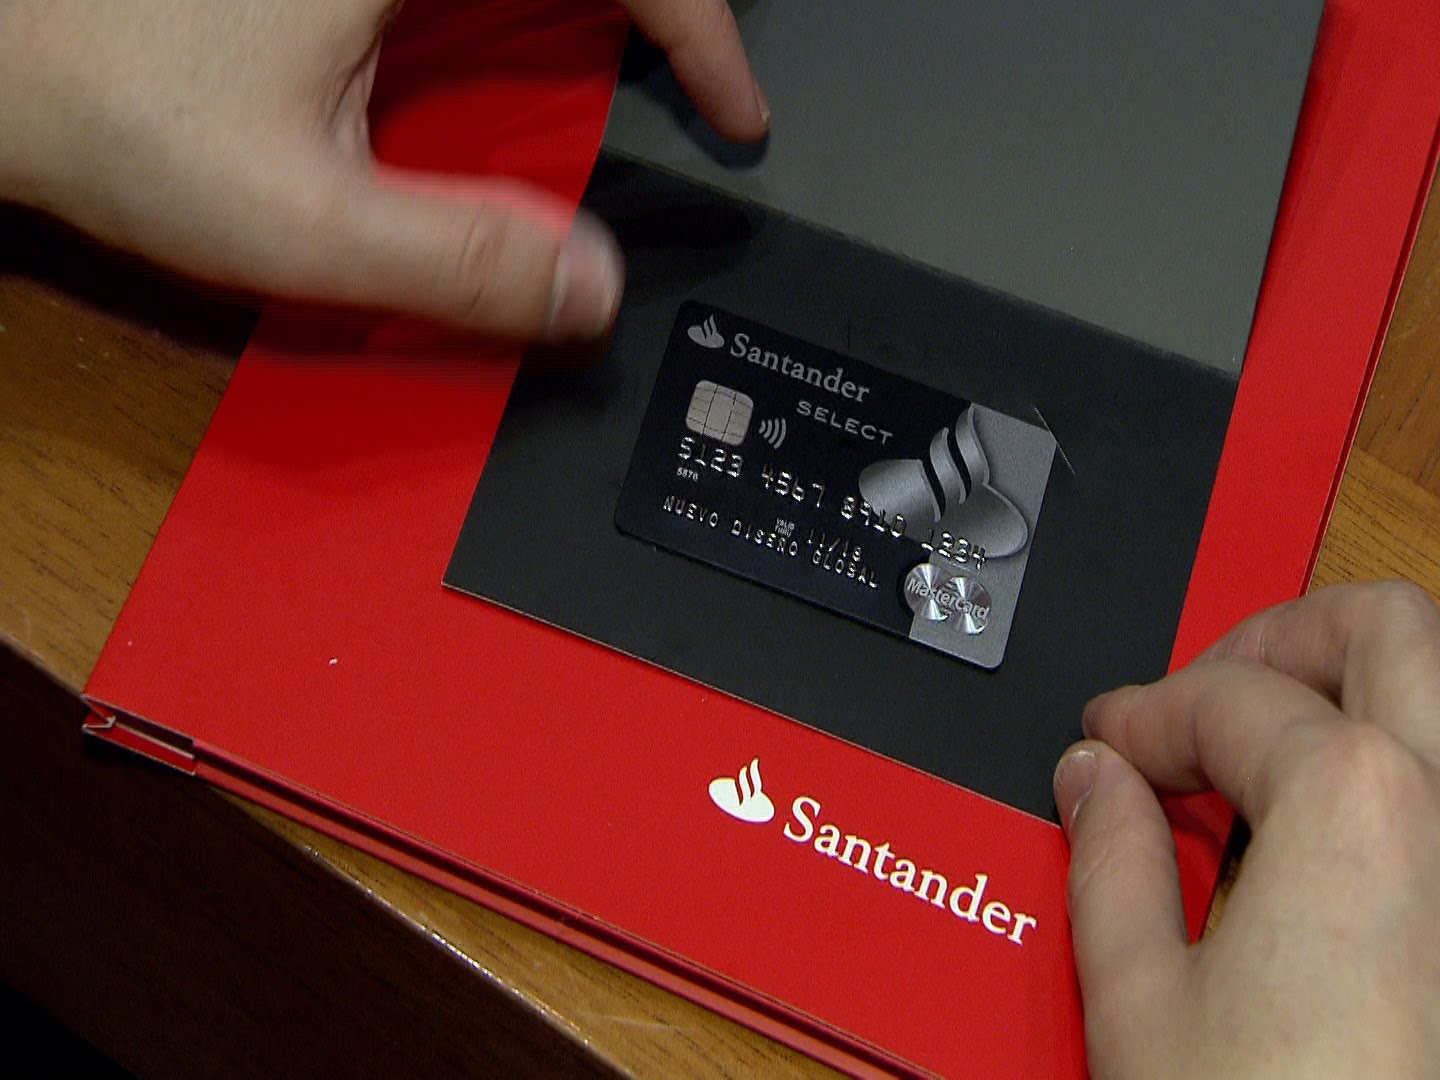tarjeta: (615, 302, 1061, 670)
